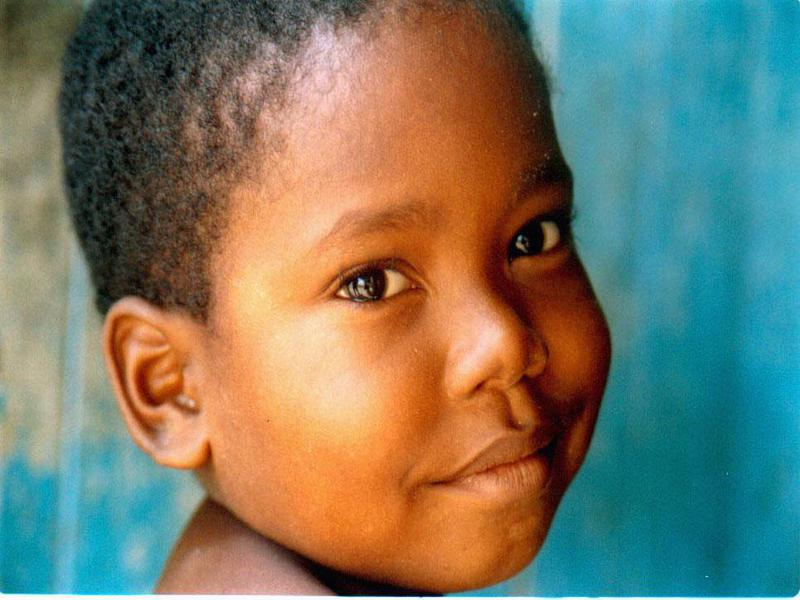person: (59, 3, 621, 600)
